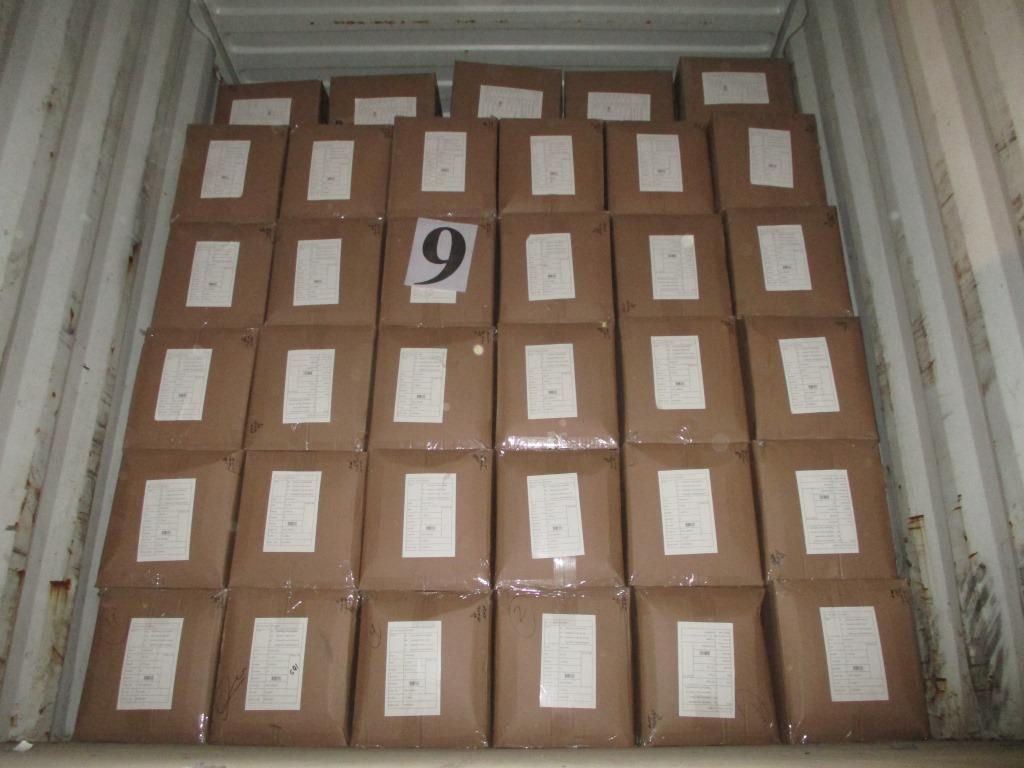carton: (761, 579, 928, 743), (72, 588, 226, 744), (209, 587, 357, 746), (633, 586, 778, 746), (493, 585, 633, 748), (352, 590, 493, 747), (621, 441, 763, 586), (752, 439, 897, 580), (97, 448, 243, 588), (226, 449, 369, 589), (359, 447, 493, 591), (495, 446, 624, 589), (741, 316, 878, 440), (620, 315, 749, 444), (123, 327, 257, 451), (244, 325, 375, 451), (494, 321, 619, 448), (368, 326, 495, 451), (723, 205, 853, 316), (150, 222, 275, 330), (498, 212, 614, 324), (379, 217, 496, 328), (264, 218, 383, 326), (612, 213, 732, 316), (170, 123, 288, 223), (709, 113, 826, 210), (387, 116, 498, 218), (279, 123, 392, 220), (603, 120, 713, 215), (497, 119, 604, 214), (675, 57, 795, 122), (449, 61, 560, 120), (564, 69, 672, 122), (329, 74, 438, 125), (214, 80, 327, 127)
